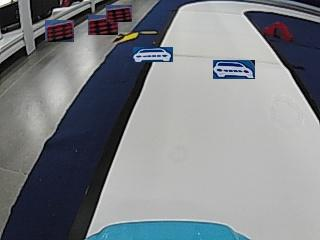bridge: (264, 21, 292, 41)
